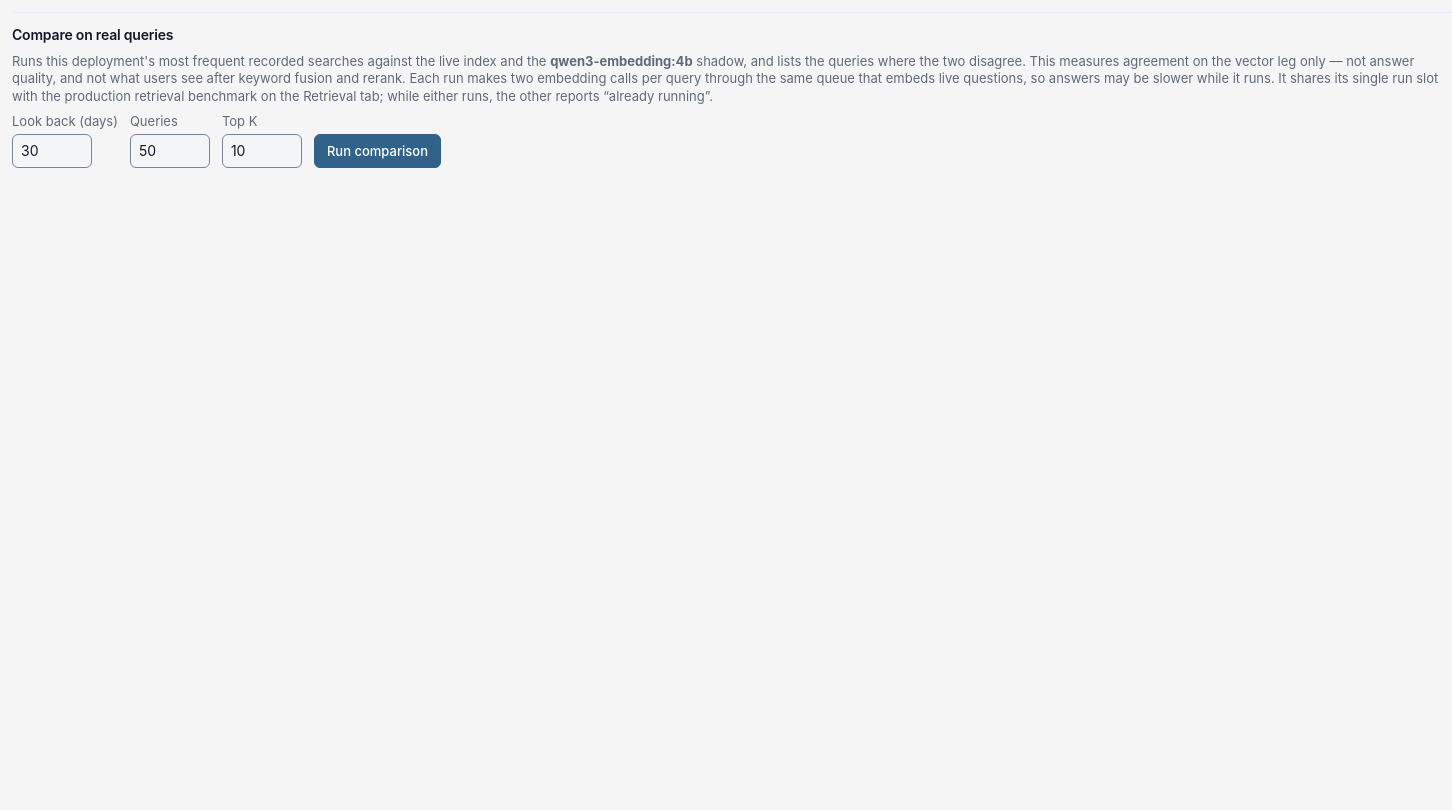
Scenario: EmbeddingShadowCompareSection (#1260) › renders the agreement figures with their basis, and only the disagreeing queries
Click the button with test id "shadow-compare-start" at (377, 151), box [314,134,441,168]
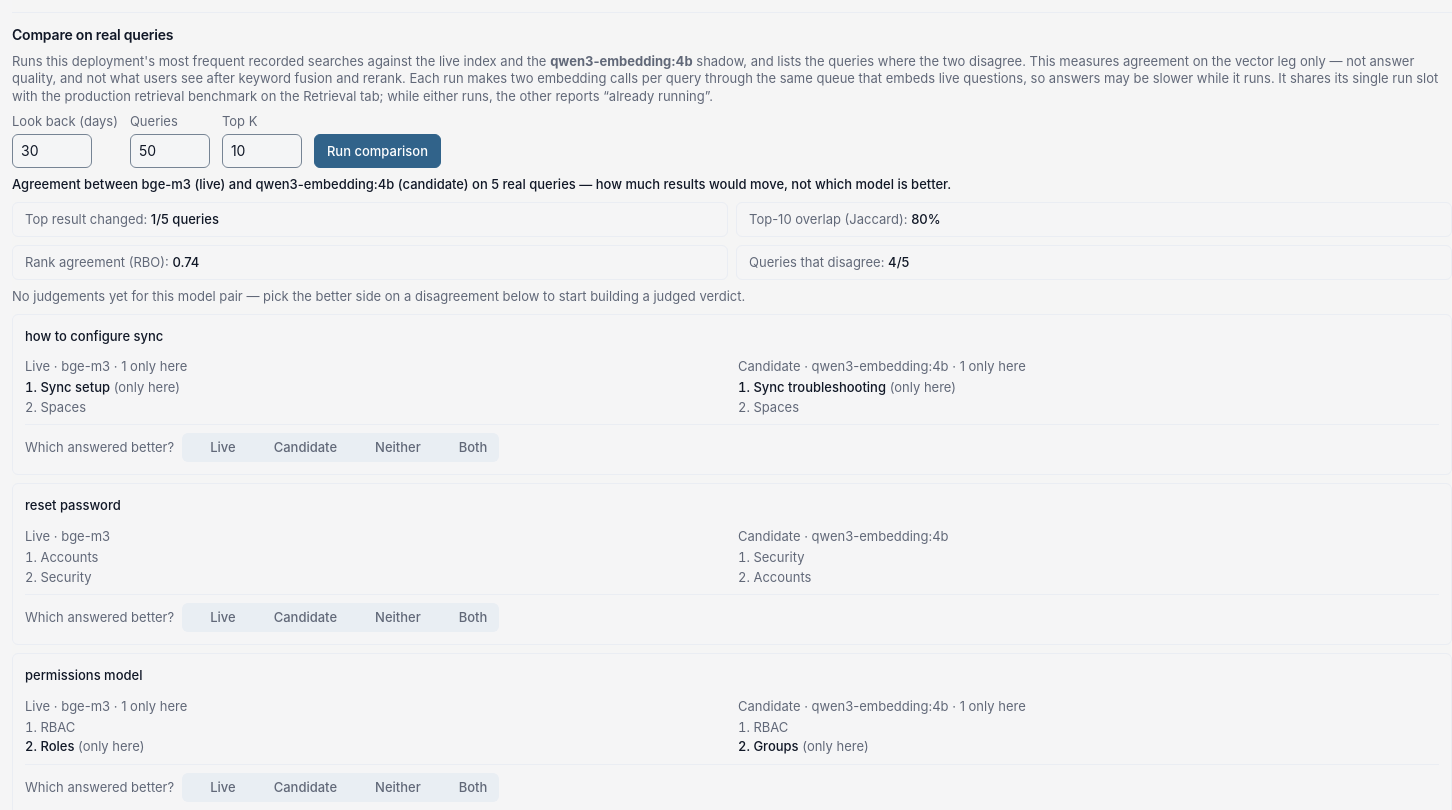
Expected: the text with test id "shadow-compare-basis" shows "Agreement", [12,176,142,192]
Expected: the text with test id "shadow-compare-basis" shows "not", [499,176,951,192]
Expected: the text with test id "shadow-compare-basis" shows "bge-m3", [142,176,191,192]
